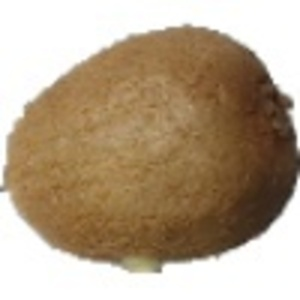kiwi: (1, 9, 300, 276)
